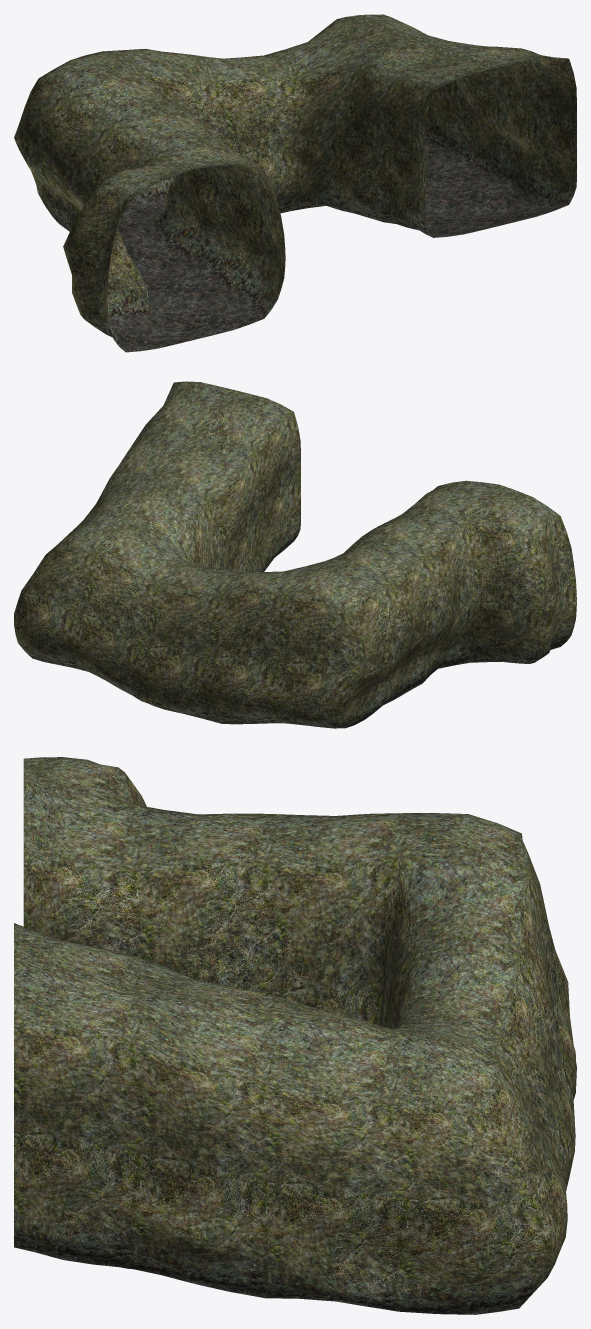
Rendered from thm_all_cave_s03_damprock_mirror_r12_r12.fbx.
3 views of the same model, one above another, from view 1: azimuth 30°, elevation 25°; view 2: azimuth 150°, elevation 25°; view 3: azimuth 270°, elevation 25° (orthographic). The views are drawn at different scales.
Visible parts, largest first — view 1: mesh_node; view 2: mesh_node; view 3: mesh_node.
Boxes of the visible parts, x1,y1,x2,y2 form: mesh_node: [14, 14, 576, 352]; mesh_node: [14, 381, 576, 728]; mesh_node: [14, 757, 576, 1314].
Size of the model in its own units: 50.31 by 22.47 by 33.73.
